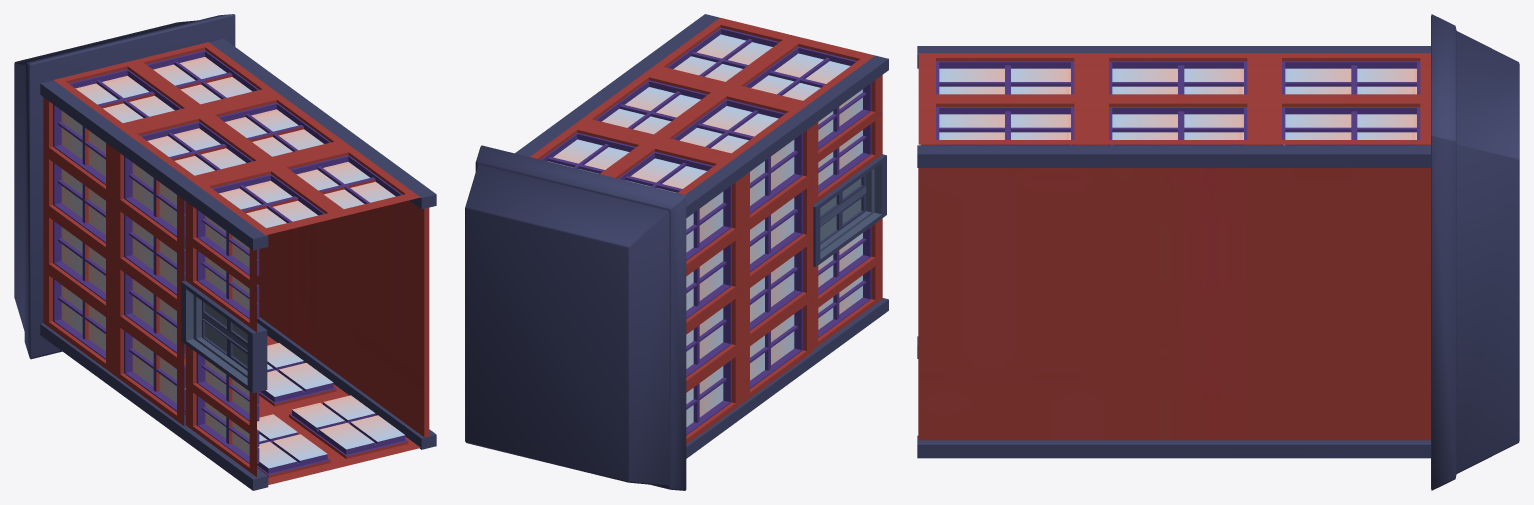
Rendered from mavi.olmayan.bina.yeni.fbx.
3 renders of one model, left to right at view 1: azimuth 30°, elevation 25°; view 2: azimuth 150°, elevation 25°; view 3: azimuth 270°, elevation 25°, orthographic. The views are drawn at different scales.
Visible parts, largest first — view 1: bina1; view 2: bina1; view 3: bina1.
Boxes of the visible parts, x1,y1,x2,y2 form: bina1: [14, 14, 436, 490]; bina1: [465, 14, 888, 490]; bina1: [917, 14, 1519, 490].
Bounding box in the file's own units: 322 × 443 × 677.
Materials: 1 (1 with a texture image).
